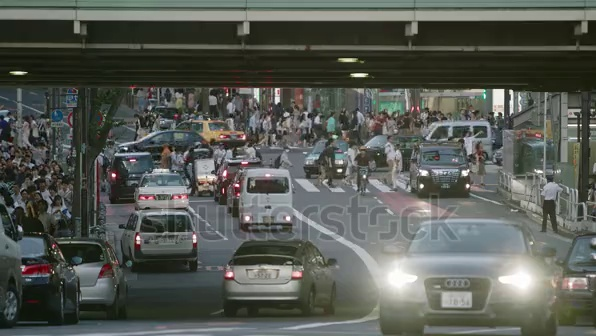licenseplate: (439, 287, 475, 311)
